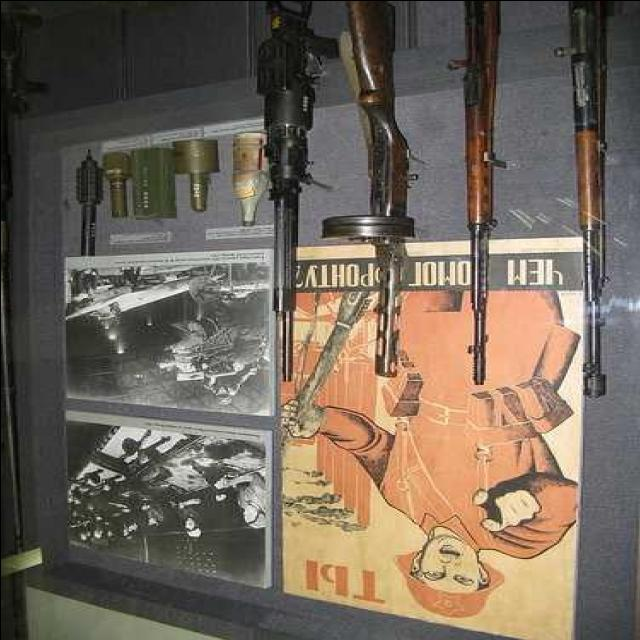heavyweapon: (529, 1, 635, 415), (227, 4, 326, 394), (438, 4, 507, 411), (348, 2, 411, 388)
